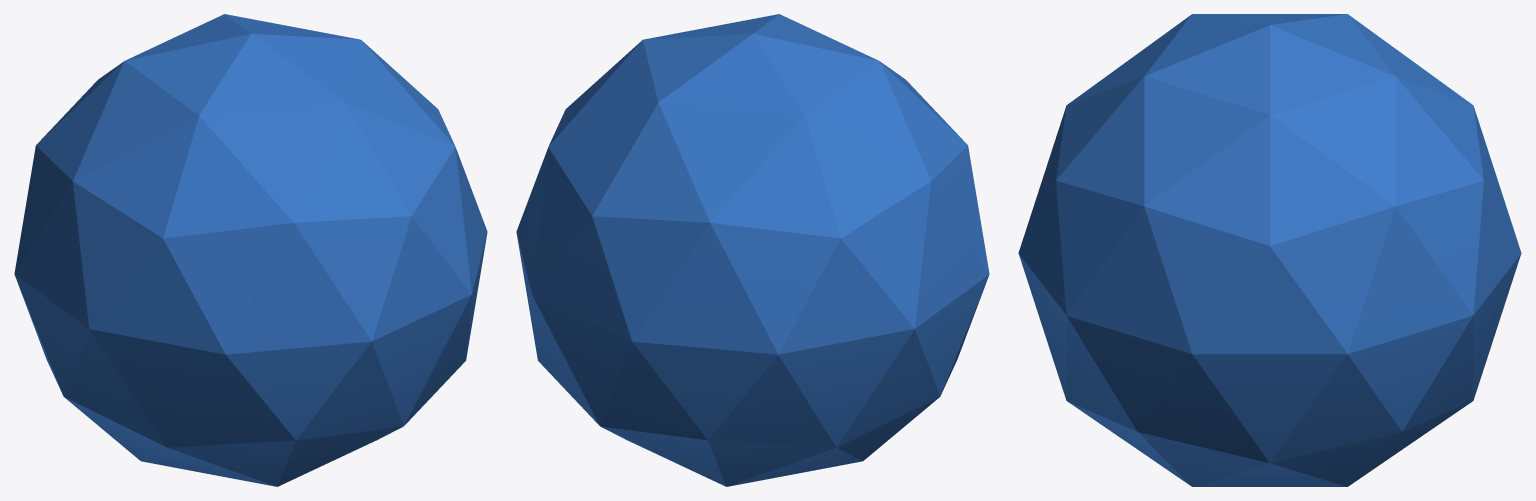
File: tee_marker_ball_blue.glb
3 renders of one model, left to right at view 1: azimuth 30°, elevation 25°; view 2: azimuth 150°, elevation 25°; view 3: azimuth 270°, elevation 25°, orthographic. The views are drawn at different scales.
Parts seen in each view (by area): view 1: Body; view 2: Body; view 3: Body.
Boxes of the visible parts, <box> form: Body: <box>14,14,487,486</box>; Body: <box>516,14,989,486</box>; Body: <box>1018,14,1521,486</box>.
Bounding box in the file's own units: 0.5516 × 0.53 × 0.58.
1 material, 1 textured.
